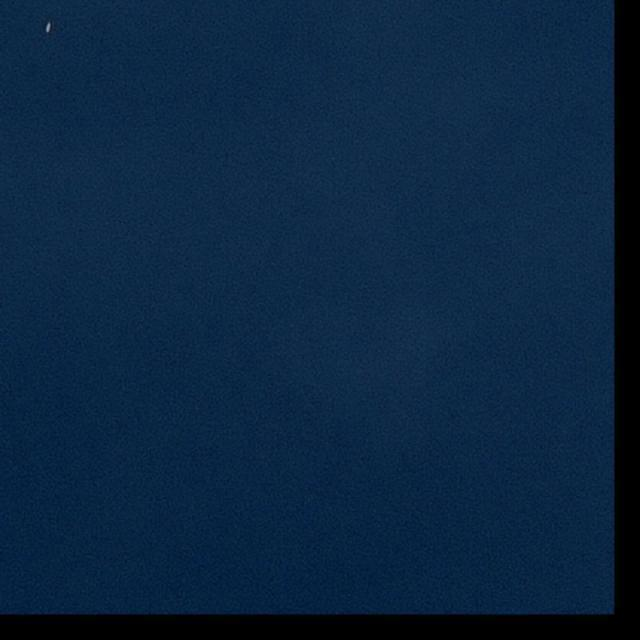ship: (44, 21, 53, 34)
